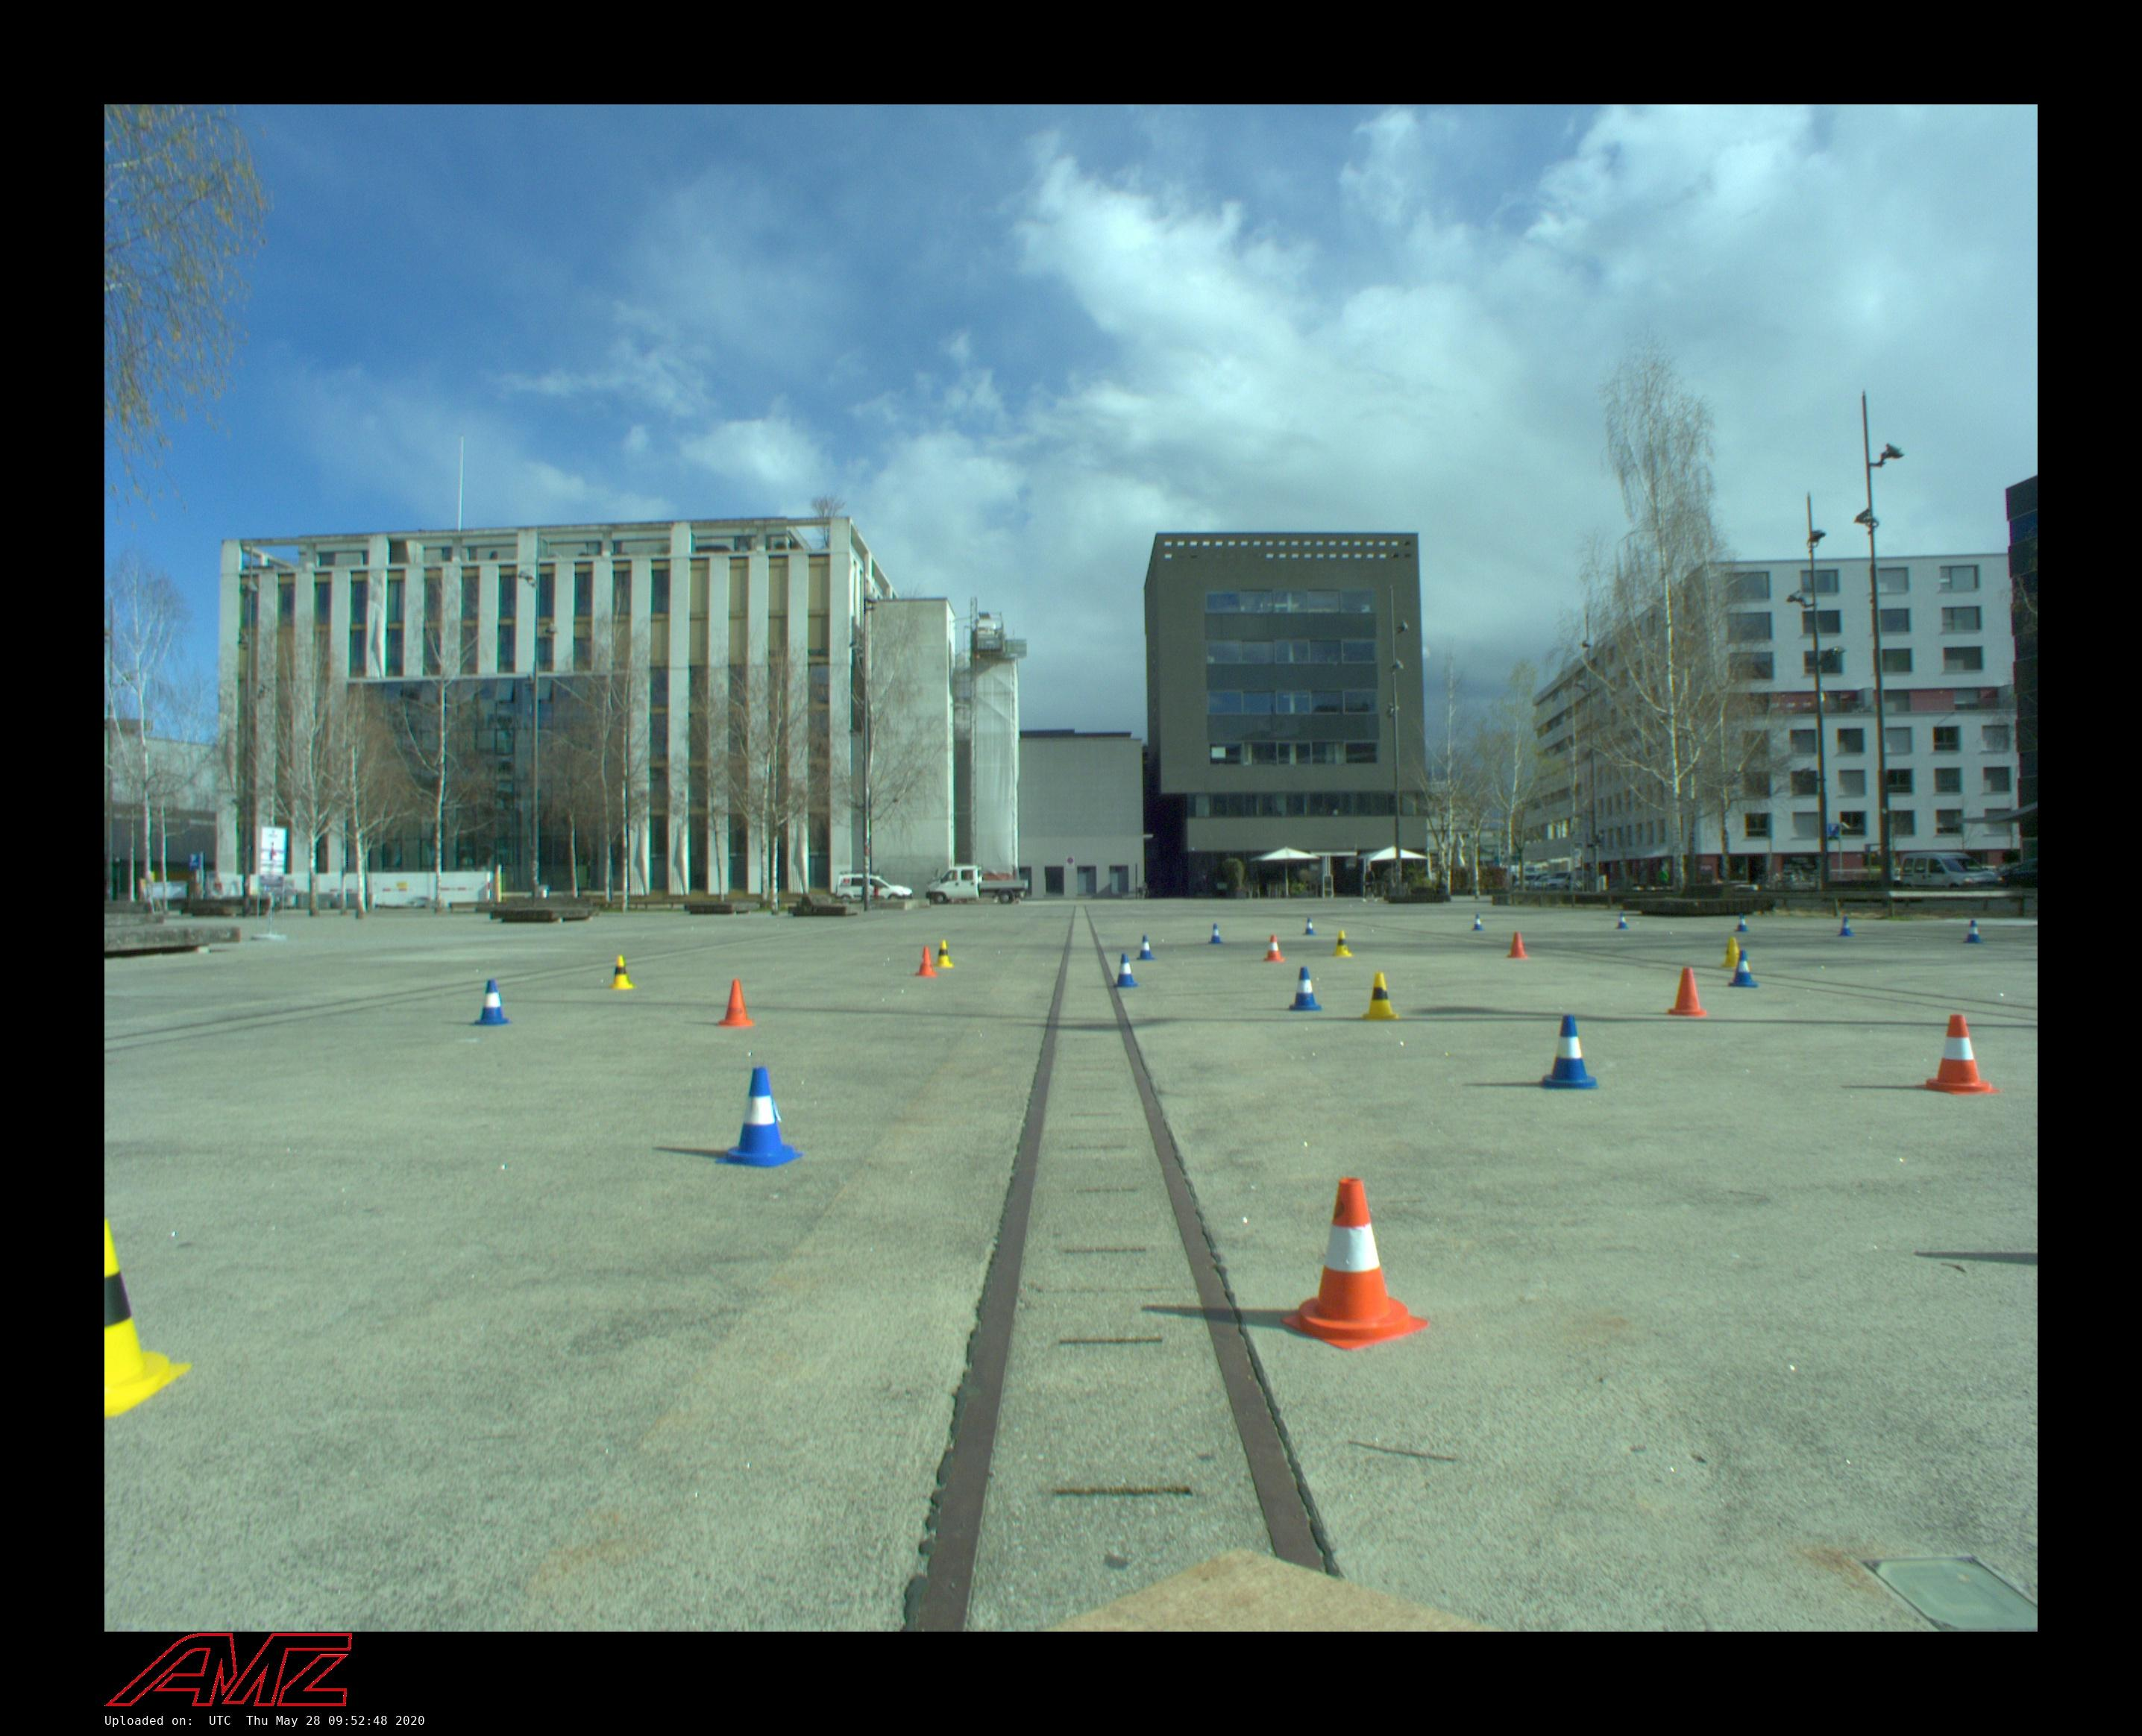blue_cone: (716, 1066, 803, 1167), (1534, 1015, 1598, 1089), (471, 980, 510, 1026), (1288, 967, 1322, 1011), (1727, 949, 1758, 988), (1113, 953, 1139, 988), (1136, 935, 1157, 962), (1963, 919, 1983, 944), (1837, 916, 1855, 937), (1733, 912, 1750, 932), (1208, 925, 1224, 944), (1614, 912, 1628, 930), (1471, 916, 1485, 932), (1304, 918, 1316, 935)
orange_cone: (1279, 1176, 1428, 1352), (1912, 1013, 2000, 1095), (1667, 967, 1708, 1017), (718, 980, 753, 1027), (916, 946, 937, 978), (1504, 932, 1529, 958), (1263, 935, 1284, 962)
yellow_cone: (1361, 973, 1400, 1020), (608, 955, 638, 990), (1722, 937, 1747, 967), (1332, 930, 1354, 958), (934, 939, 953, 969)
